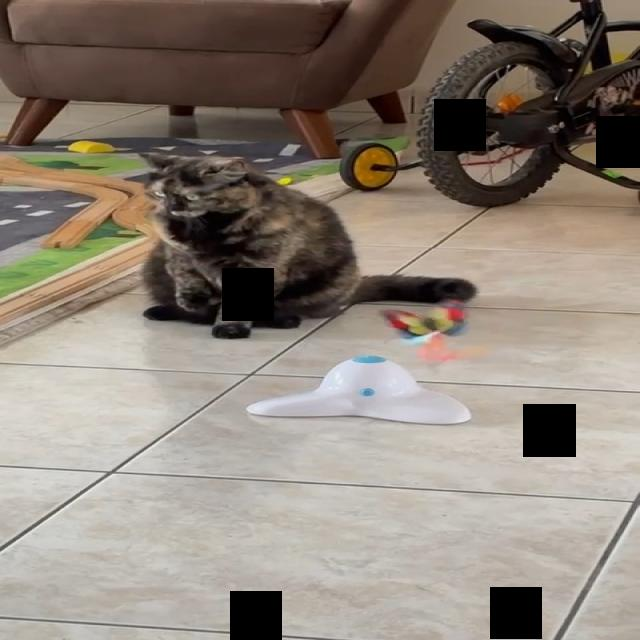authorized: (136, 152, 477, 340)
